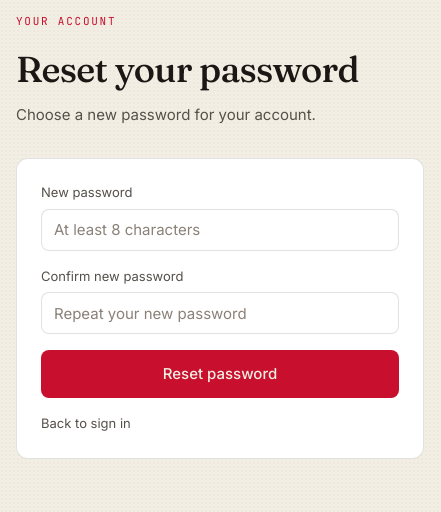
Test case: ResetPasswordPage › requires an 8+ character password before contacting the server
In the password field labelled "New password": {"x": 220, "y": 230} 41,208 -> 399,250, type "short"
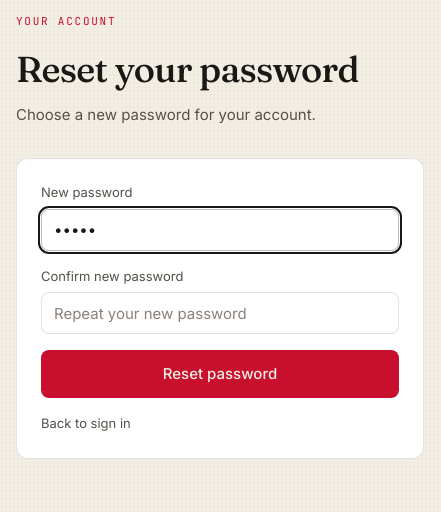
In the password field labelled "Confirm new password": {"x": 220, "y": 313} 41,292 -> 399,334, type "short"
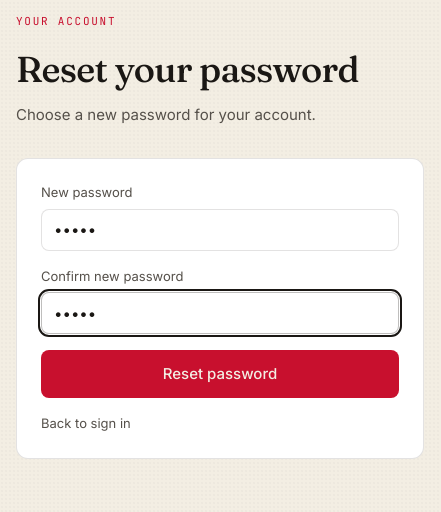
Click the button "Reset password": {"x": 220, "y": 374} 41,350 -> 399,398
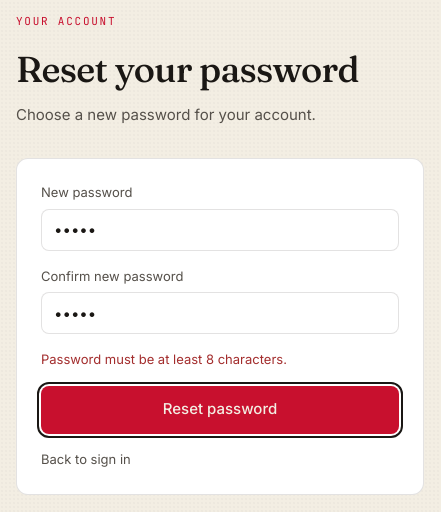
Expected: the text "Password must be at least 8 characters." is shown, 41,351 -> 287,367
